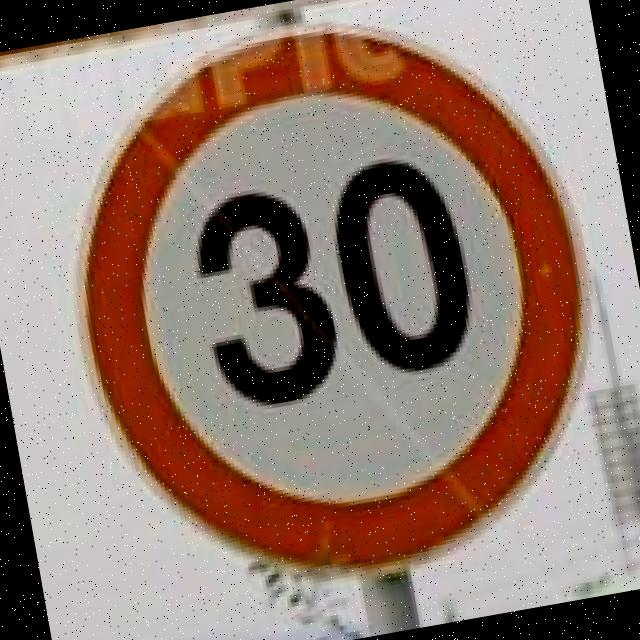Ograniczenie predkosci do 30: (43, 0, 616, 598)
